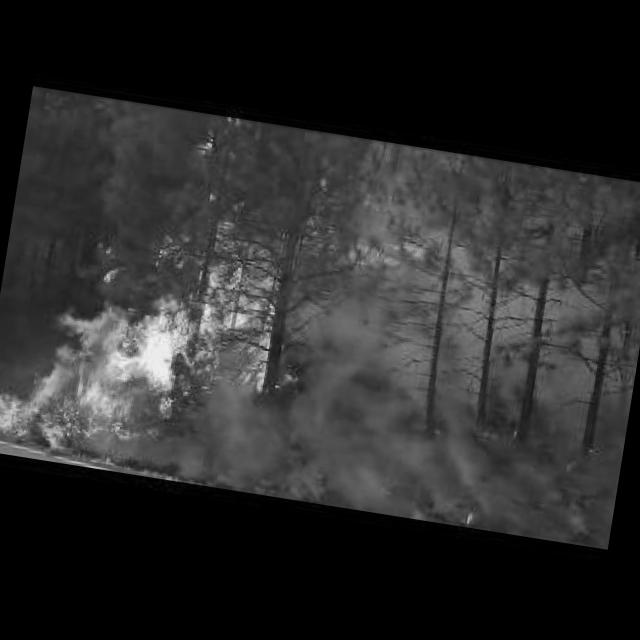fire: (0, 197, 284, 476)
